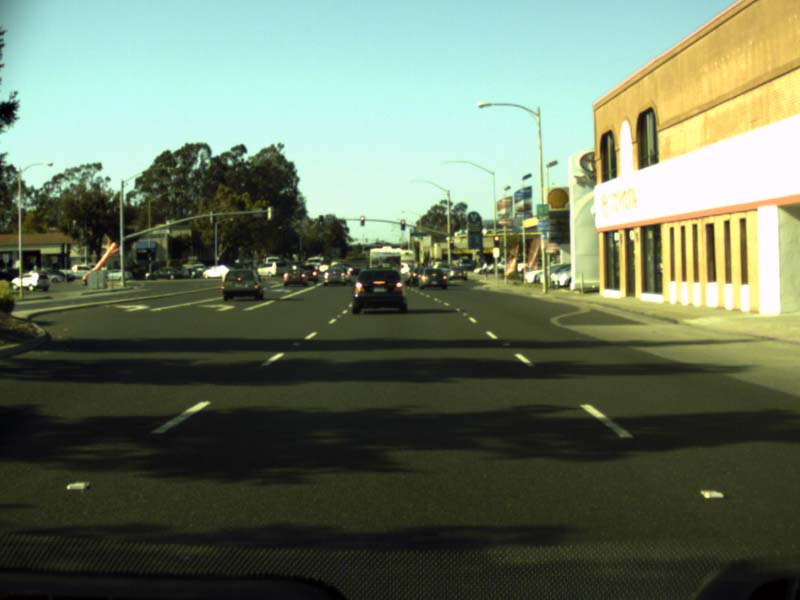Red: (359, 215, 365, 226), (400, 219, 405, 230)
